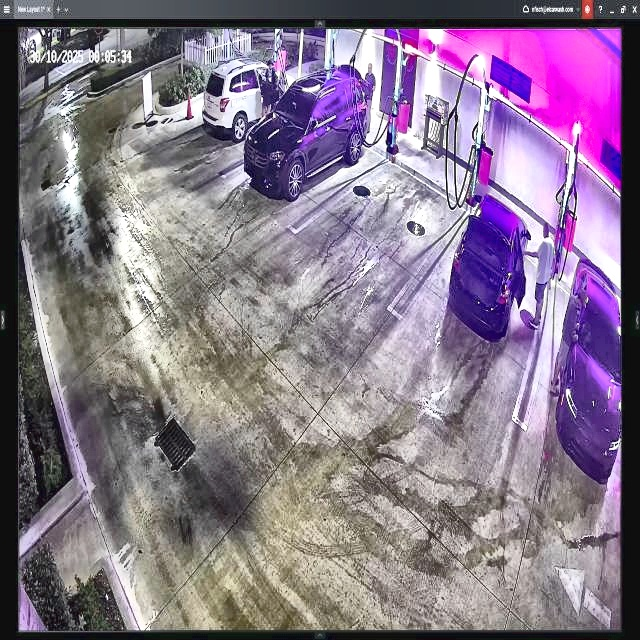Car: (246, 63, 367, 195), (450, 192, 531, 334)
